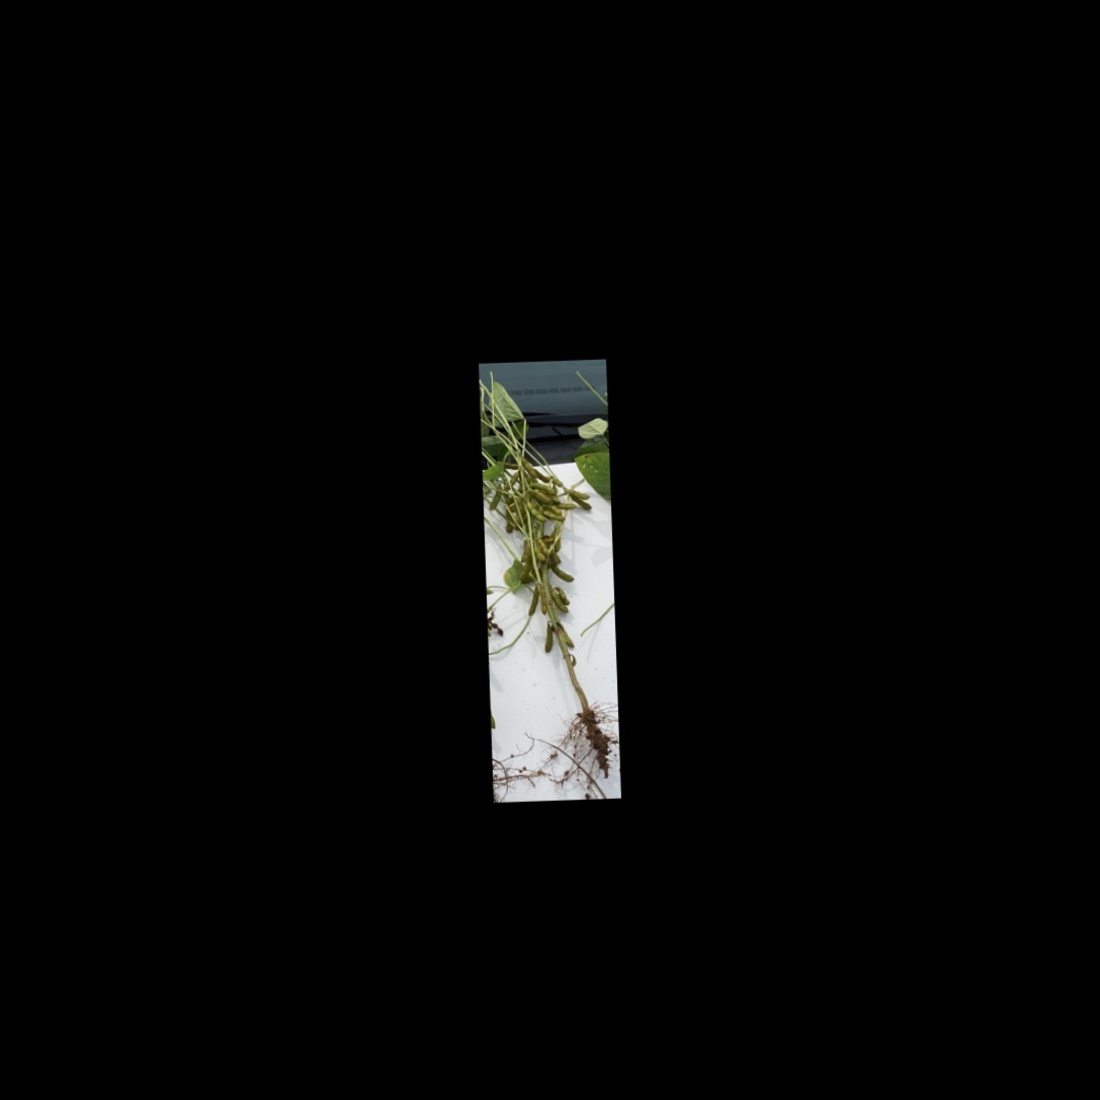pod: (547, 562, 579, 585), (548, 583, 569, 617), (523, 496, 547, 525), (565, 492, 594, 513), (519, 452, 539, 483), (487, 482, 506, 513), (525, 585, 540, 620), (516, 557, 534, 583), (542, 621, 554, 657), (537, 583, 550, 615), (565, 488, 592, 503)
soy: (480, 367, 617, 778)
